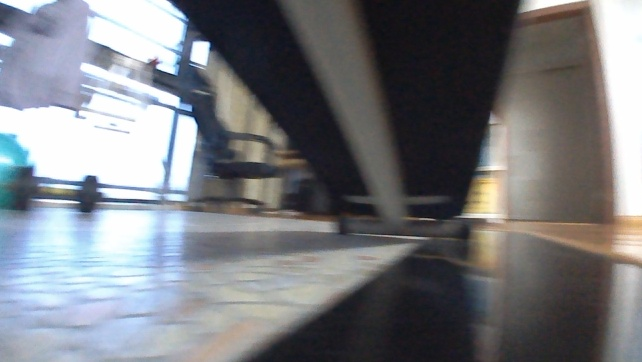door_anno: (494, 0, 613, 225)
